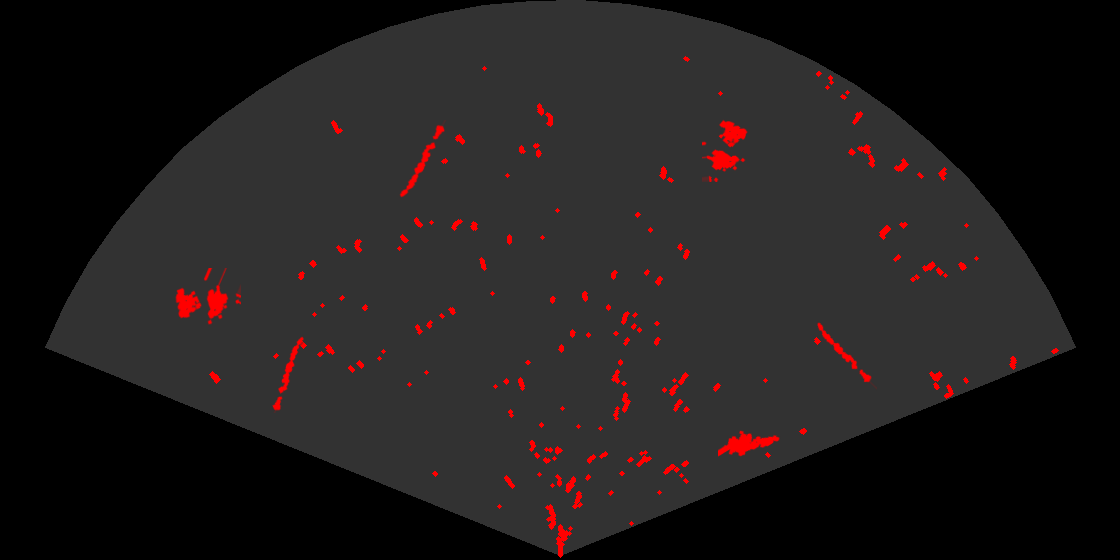cage: (174, 268, 241, 326), (702, 118, 749, 182)
chain: (816, 321, 877, 391), (398, 120, 448, 199), (271, 335, 305, 413)
frogman: (718, 429, 781, 458)
